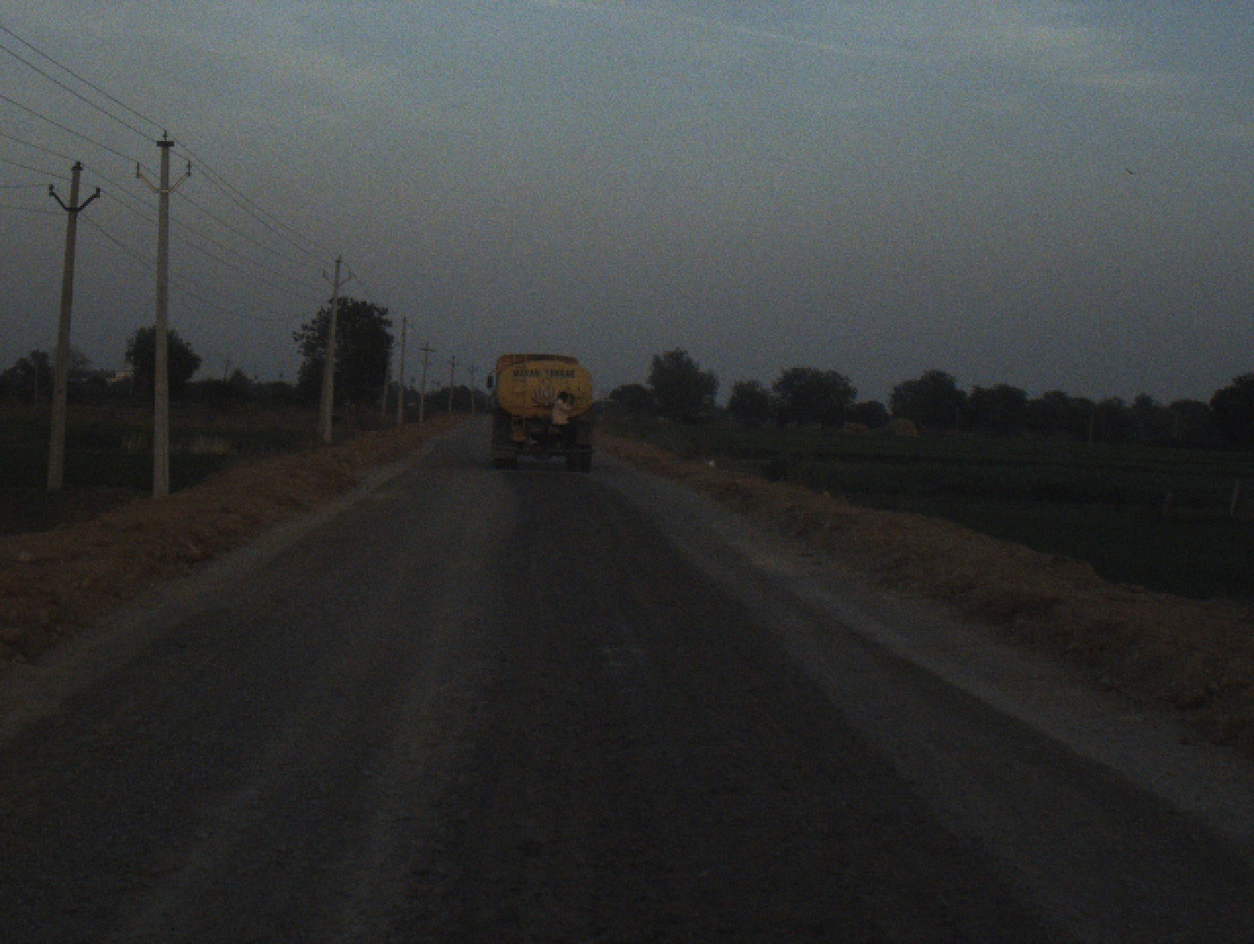rider: (555, 388, 580, 448)
truck: (483, 349, 604, 472)
